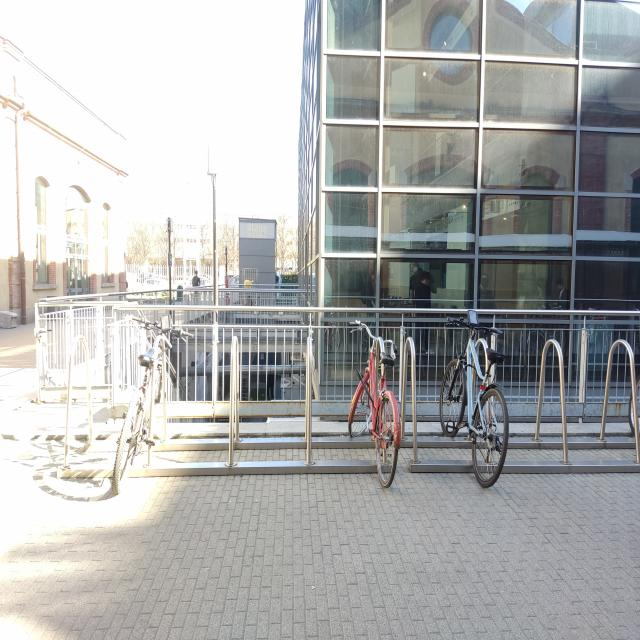Bicycle: (430, 306, 510, 504), (108, 311, 193, 494), (354, 311, 396, 507)
